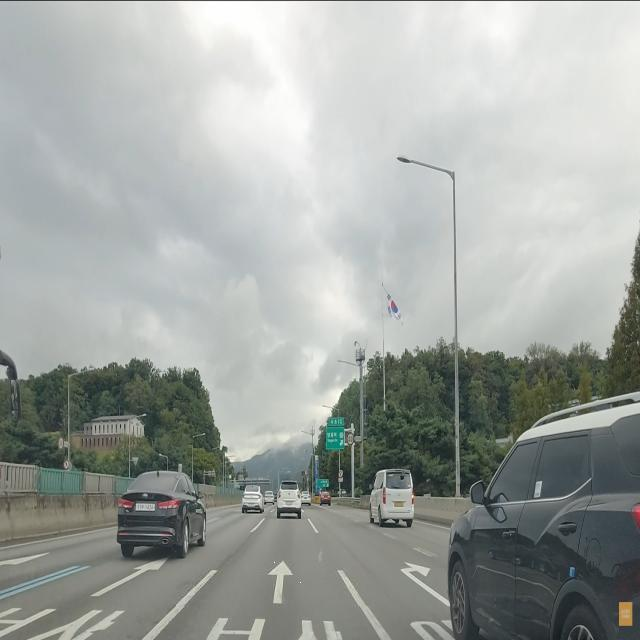forward: (177, 554, 373, 606)
